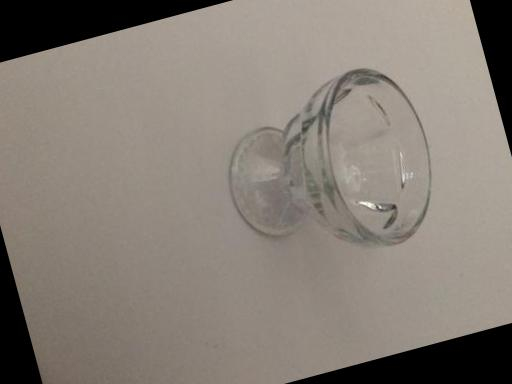glass: (197, 39, 476, 322)
